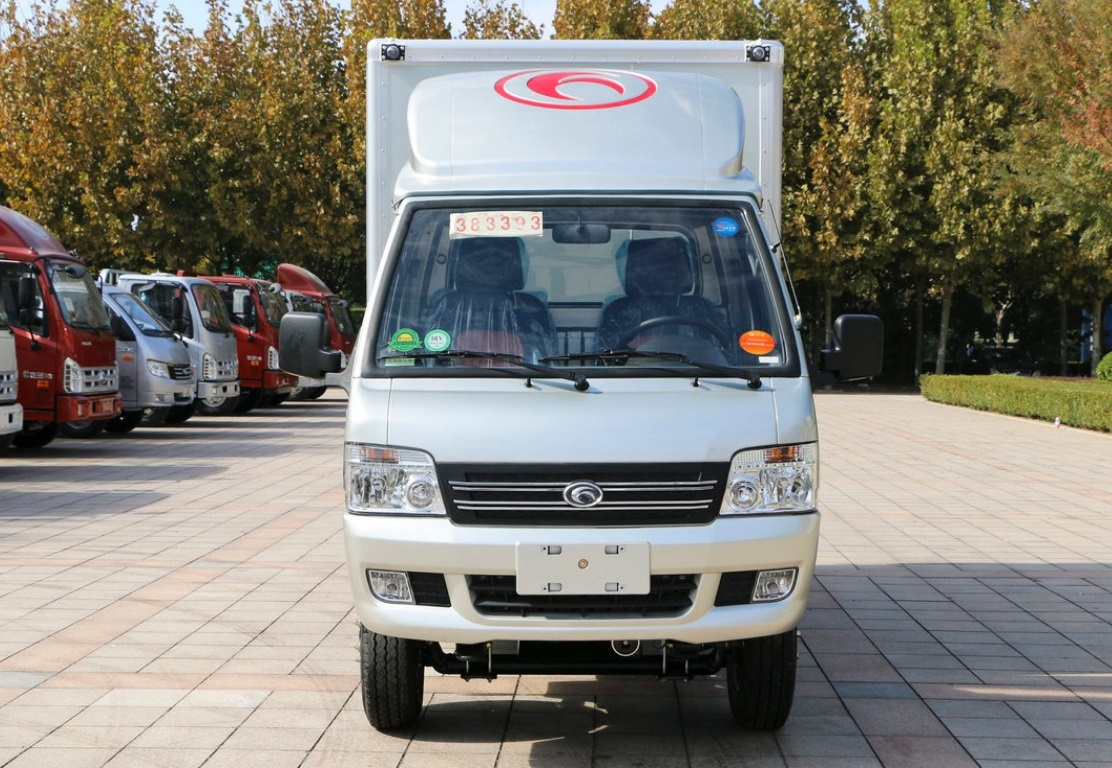truck: (335, 29, 837, 726)
